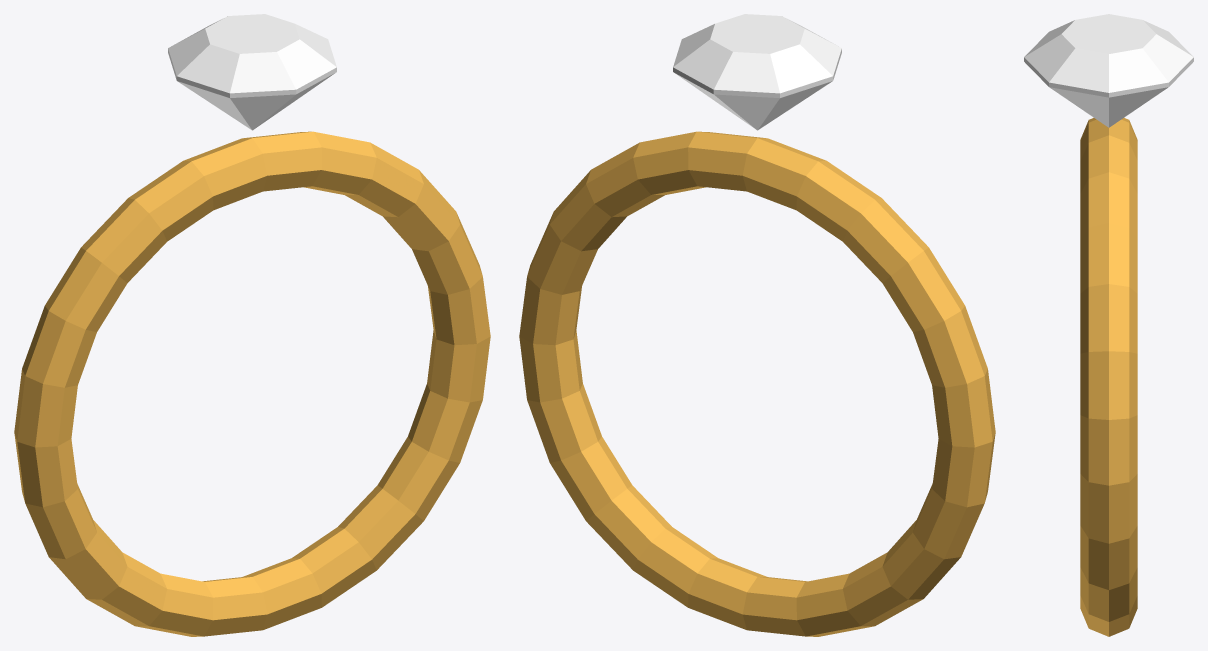
File: ring.obj
The picture shows the model from 3 angles, left to right: view 1: azimuth 30°, elevation 25°; view 2: azimuth 150°, elevation 25°; view 3: azimuth 270°, elevation 25°; orthographic projection. The views are drawn at different scales.
Parts seen in each view (by area): view 1: Band, Stone; view 2: Band, Stone; view 3: Band, Stone.
Part boxes in pixels (bbox=[...]): Band: bbox=[14, 131, 490, 636]; Stone: bbox=[168, 14, 336, 130]; Band: bbox=[519, 131, 995, 636]; Stone: bbox=[673, 14, 841, 130]; Band: bbox=[1080, 118, 1137, 636]; Stone: bbox=[1024, 14, 1193, 127].
Size of the model in its own units: 20.2 by 24.47 by 6.5.
